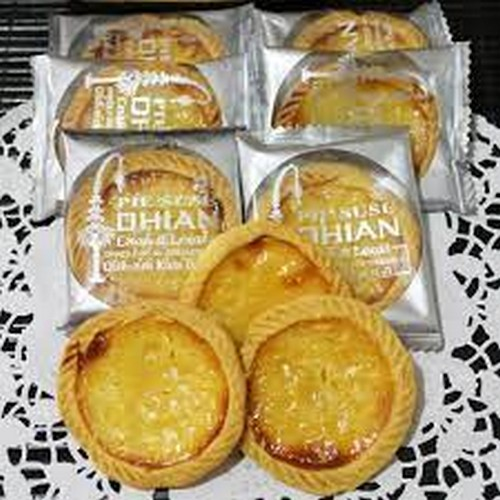pie susu: (57, 302, 248, 493), (241, 298, 408, 499), (181, 217, 342, 373)
